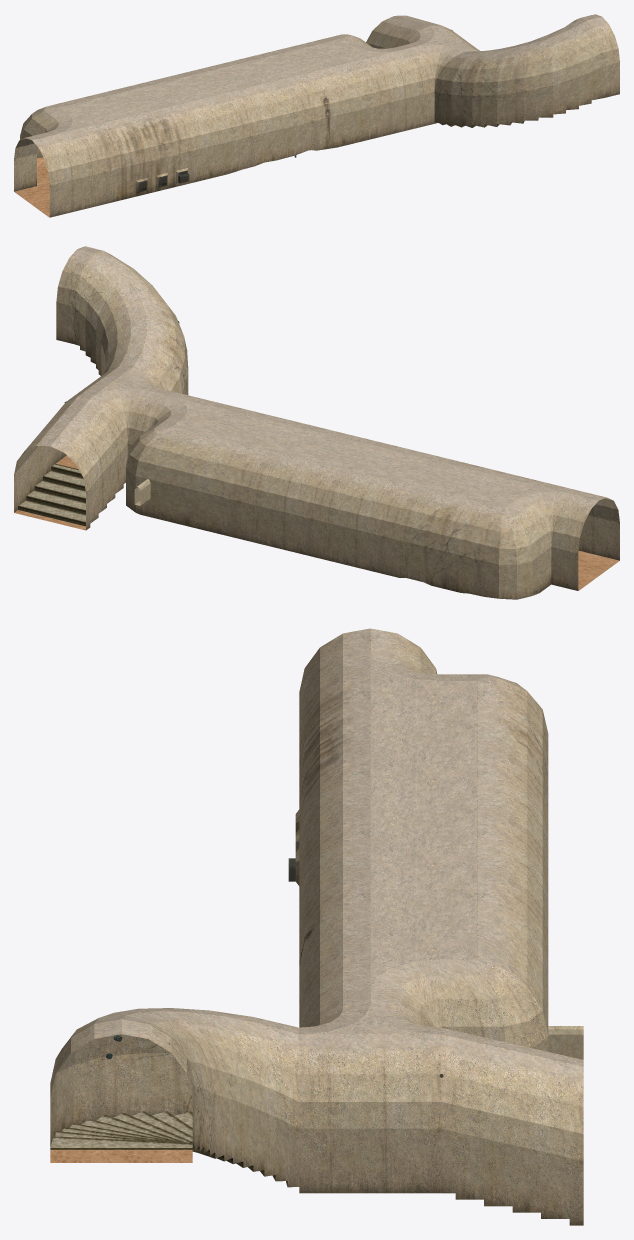
File: thm_tato_jabbas_palace_r10_hall4_mesh_r10.fbx
3 renders of one model, top to bottom at view 1: azimuth 30°, elevation 25°; view 2: azimuth 150°, elevation 25°; view 3: azimuth 270°, elevation 25°, orthographic. The views are drawn at different scales.
Parts seen in each view (by area): view 1: mesh_node; view 2: mesh_node; view 3: mesh_node.
Part boxes in pixels (<box>): mesh_node: <box>14,14,619,217</box>; mesh_node: <box>14,246,619,599</box>; mesh_node: <box>50,628,583,1225</box>.
Size of the model in its own units: 33 by 7.8 by 15.
